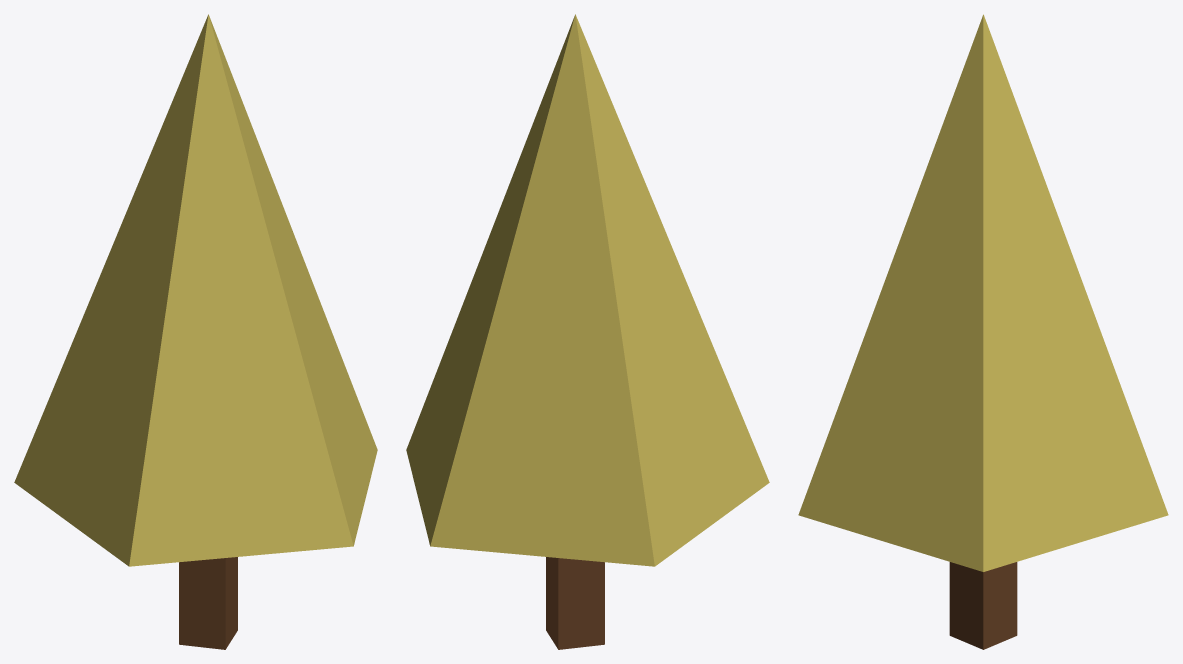
Rendered from SM_PineFar_Y.obj.
3 views of the same model, side by side, from view 1: azimuth 30°, elevation 25°; view 2: azimuth 150°, elevation 25°; view 3: azimuth 270°, elevation 25° (orthographic).
Visible parts, largest first — view 1: SM_PineFar_Y; view 2: SM_PineFar_Y; view 3: SM_PineFar_Y.
Boxes of the visible parts, <box> form: SM_PineFar_Y: <box>14,14,377,649</box>; SM_PineFar_Y: <box>406,14,769,649</box>; SM_PineFar_Y: <box>798,14,1168,649</box>.
Size of the model in its own units: 4.16 by 8.1 by 4.37.
1 material, 1 textured.
